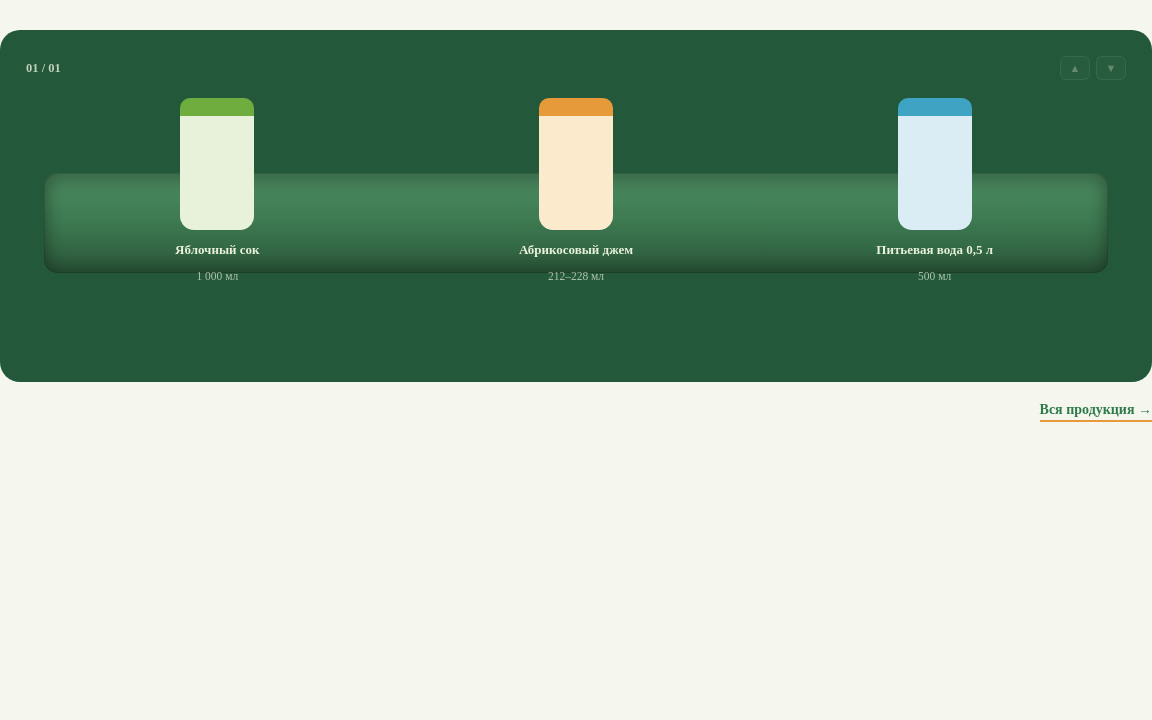
Scenario: Product quick-look › closes on a backdrop click but not on a click inside the panel
This screenshot has width=1152, height=720.
Click the text "Яблочный сок": (217, 250) [175,242,260,258]
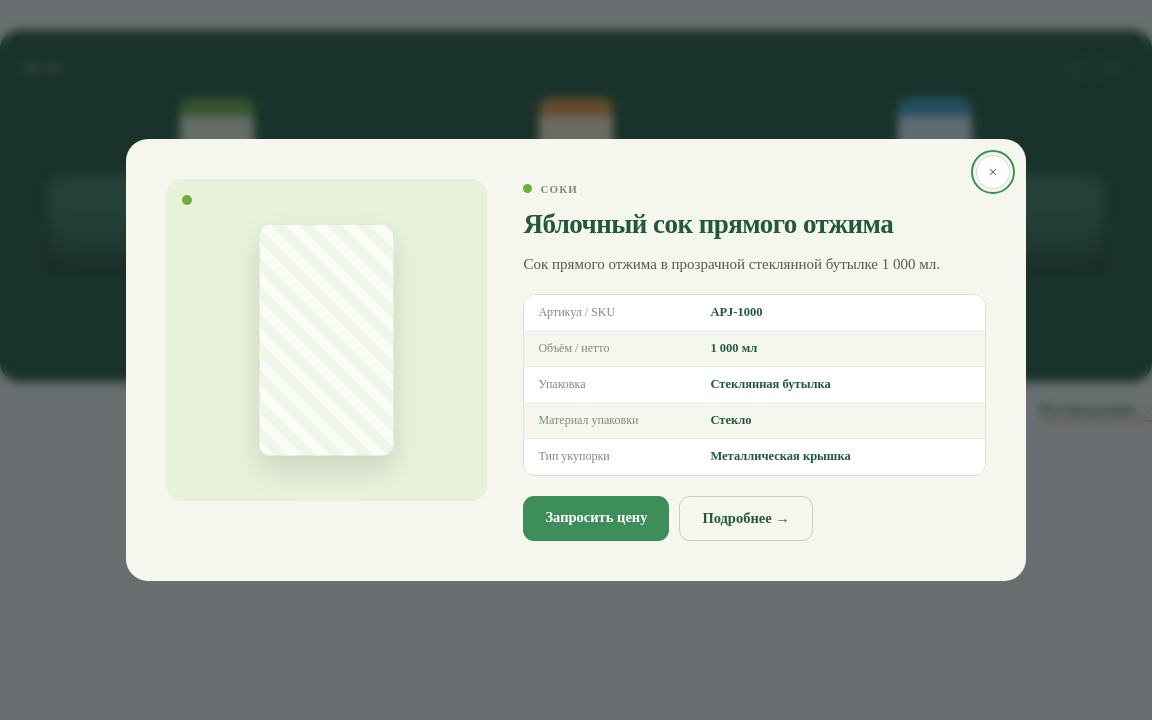
Selecting text in the description must not dismiss it.
Click the text "Сок прямого отжима в прозрачной стеклянной бутылке 1 000 мл.": (755, 264) [523,252,986,276]
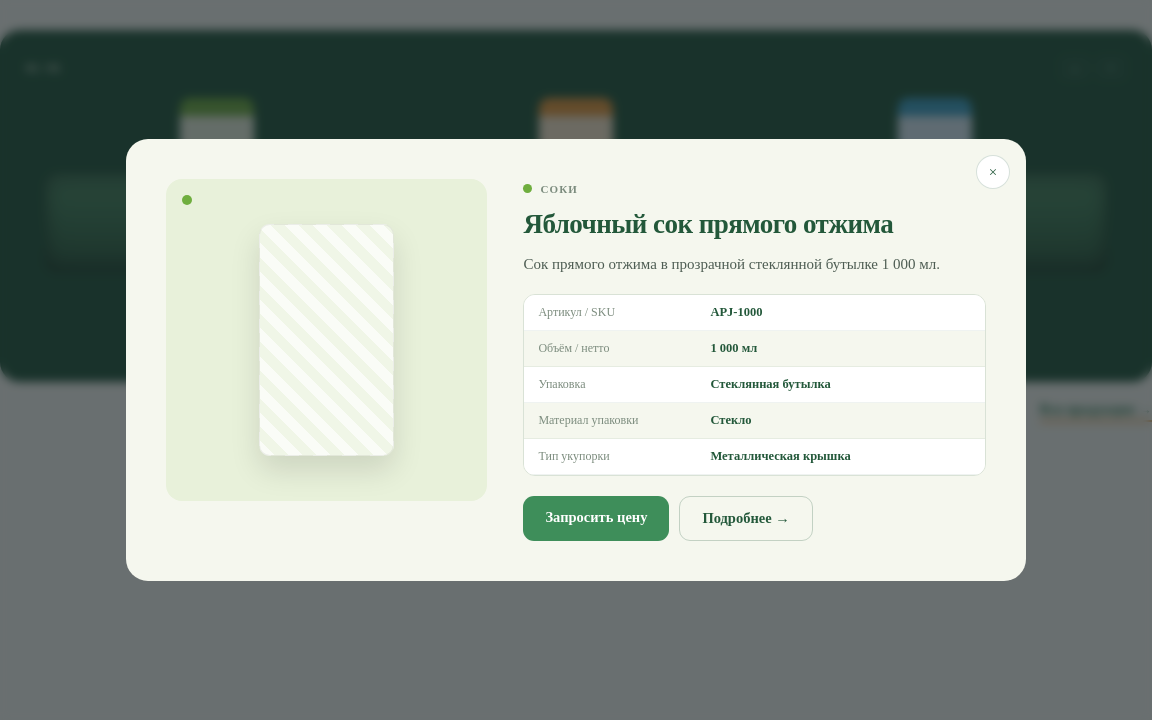
Now the dialog with test id "product-modal" is shown, box [126,139,1026,581]
Click the element with test id "product-modal-backdrop": (69, 360) [0,0,1151,719]
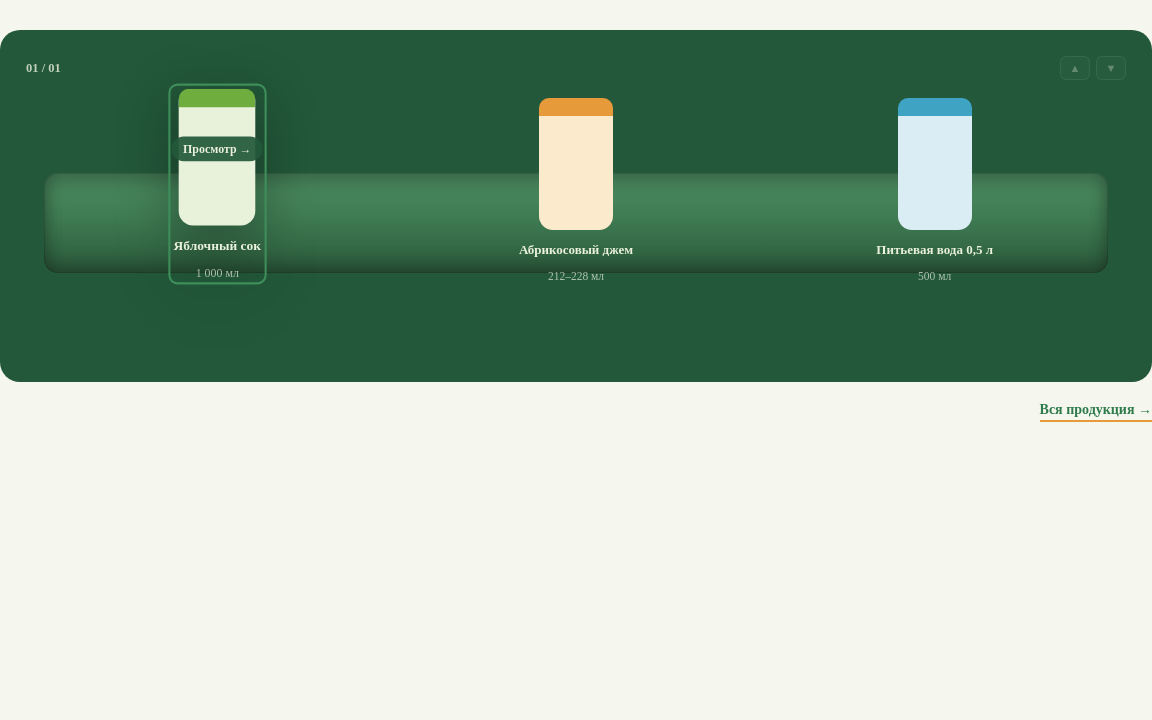
Now the dialog with test id "product-modal" is gone
